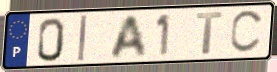0: (36, 16, 68, 63)
1: (154, 12, 171, 59)
A: (108, 13, 149, 60)
C: (228, 9, 266, 55)
I: (77, 14, 89, 62)
T: (195, 10, 225, 56)
